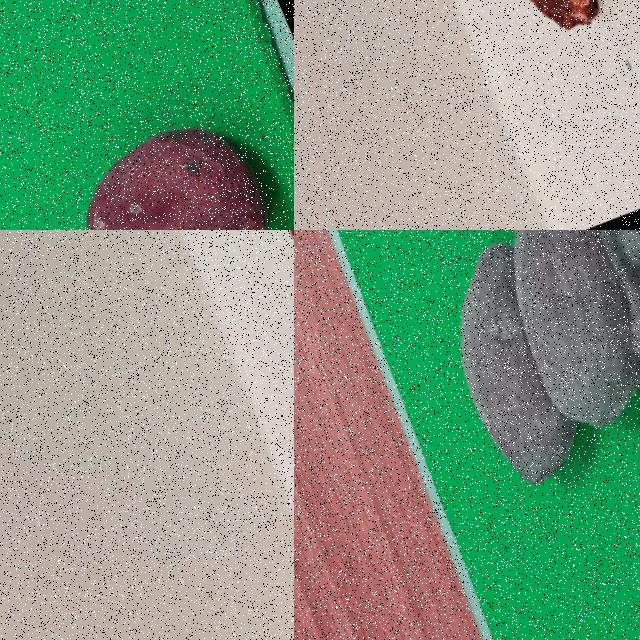Agglomerated_cocoabeans: (367, 230, 639, 583)
Fine_cocoabeans: (7, 0, 293, 229)
Flat_cocoabeans: (125, 230, 293, 510), (359, 0, 639, 87)
